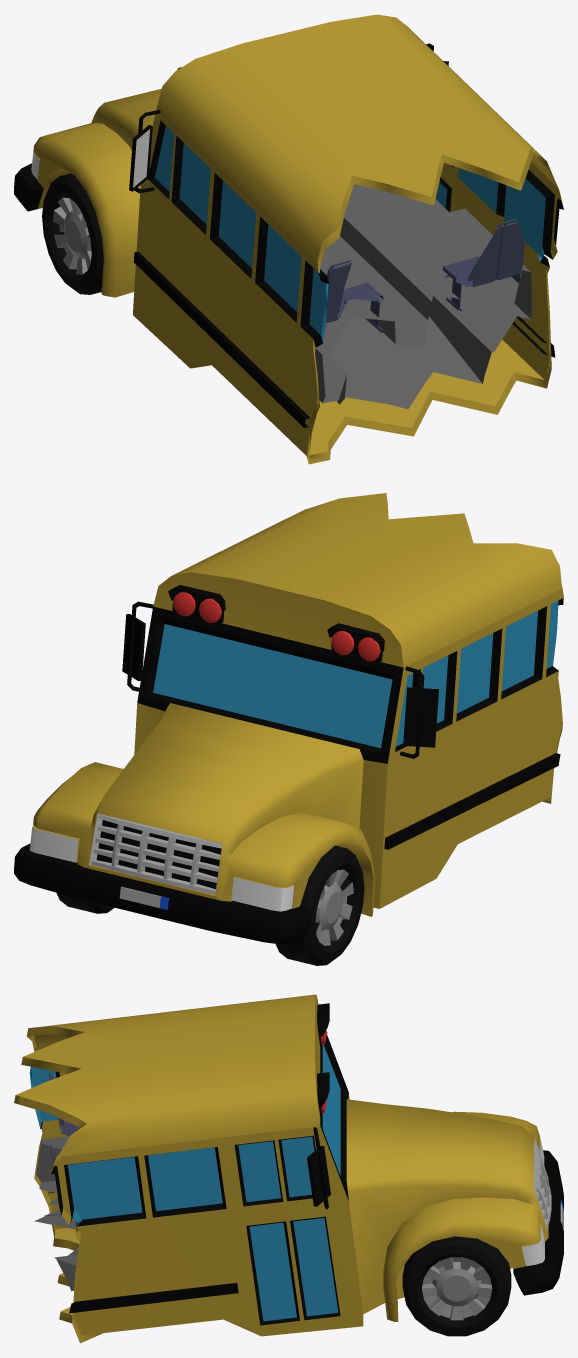
The model's file is buscrash2.fbx.
3 renders of one model, top to bottom at view 1: azimuth 30°, elevation 25°; view 2: azimuth 150°, elevation 25°; view 3: azimuth 270°, elevation 25°, orthographic. The views are drawn at different scales.
Visible parts, largest first — view 1: bus.001, on_teker; view 2: bus.001, on_teker; view 3: bus.001, on_teker.
Boxes of the visible parts, <box> form: bus.001: <box>14,14,563,464</box>; on_teker: <box>42,173,103,294</box>; bus.001: <box>14,493,563,944</box>; on_teker: <box>56,845,364,965</box>; bus.001: <box>14,994,563,1343</box>; on_teker: <box>402,1236,511,1336</box>.
Size of the model in its own units: 1413 by 1256 by 2407.
